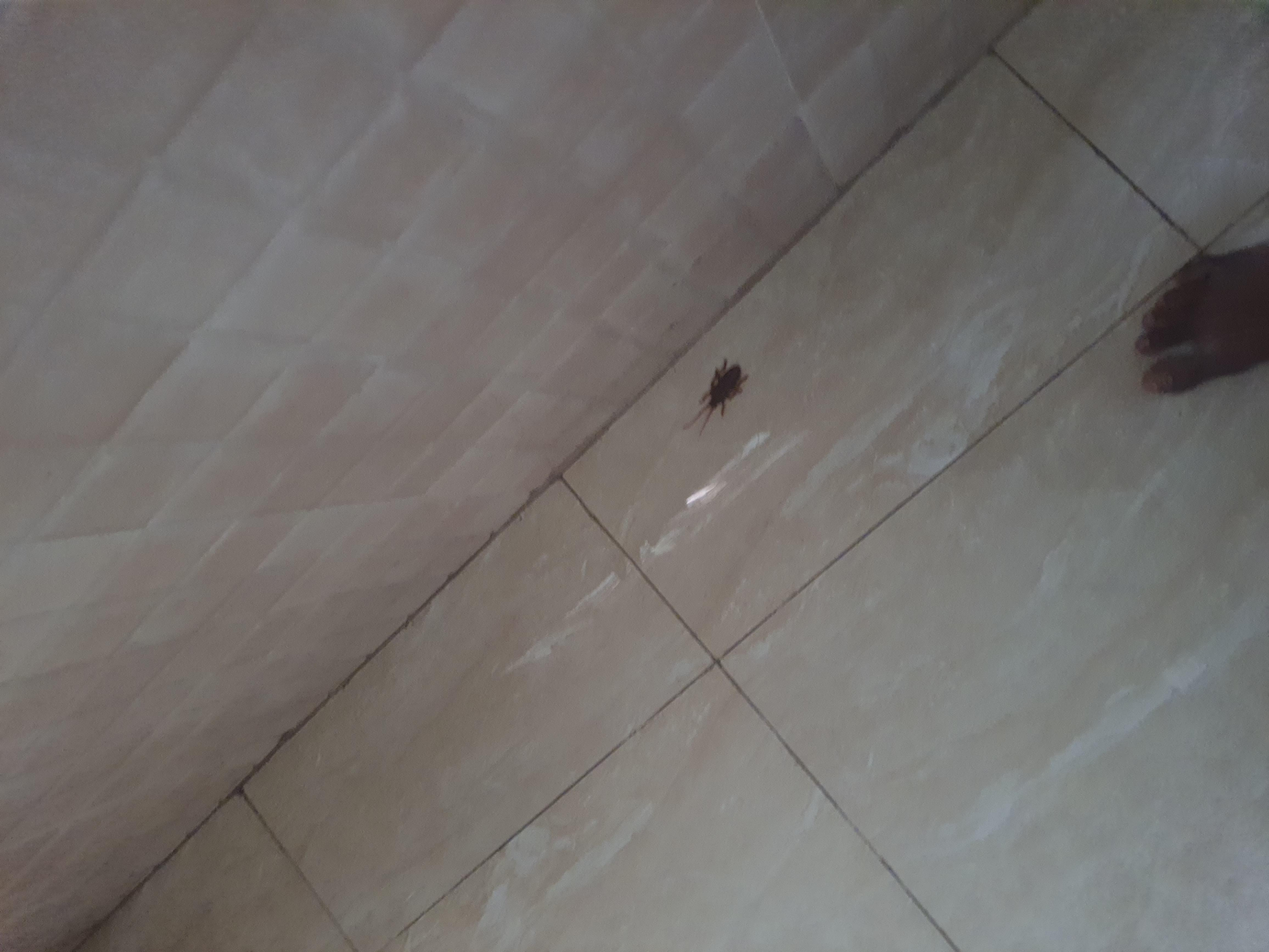cockroach: (689, 511, 810, 567)
